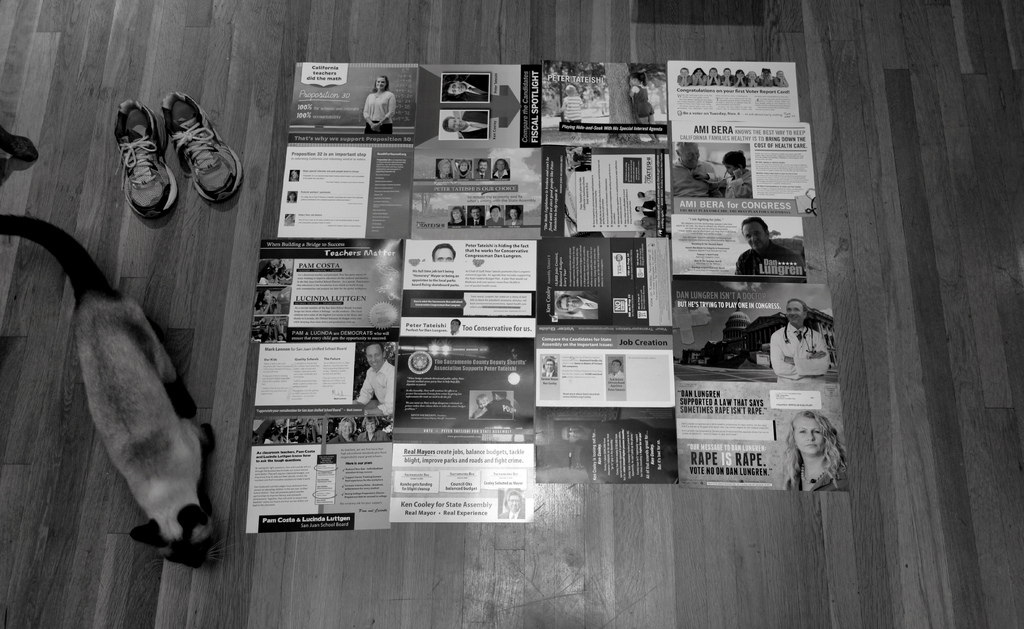Animal: (4, 216, 237, 569)
